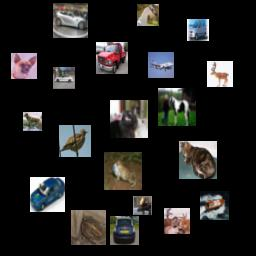airplane: (148, 52, 174, 78)
automobile: (30, 177, 65, 212), (53, 3, 88, 38), (110, 216, 139, 245), (187, 19, 209, 41), (53, 67, 75, 89)
bird: (59, 125, 91, 157)
cat: (179, 141, 217, 179), (110, 100, 148, 138)
deer: (164, 208, 190, 234), (207, 61, 233, 87), (133, 196, 152, 215)
dog: (11, 53, 37, 79), (23, 112, 42, 131)
frog: (104, 152, 142, 190), (71, 210, 106, 245)
ship: (200, 191, 229, 220)
truck: (96, 42, 128, 74)
